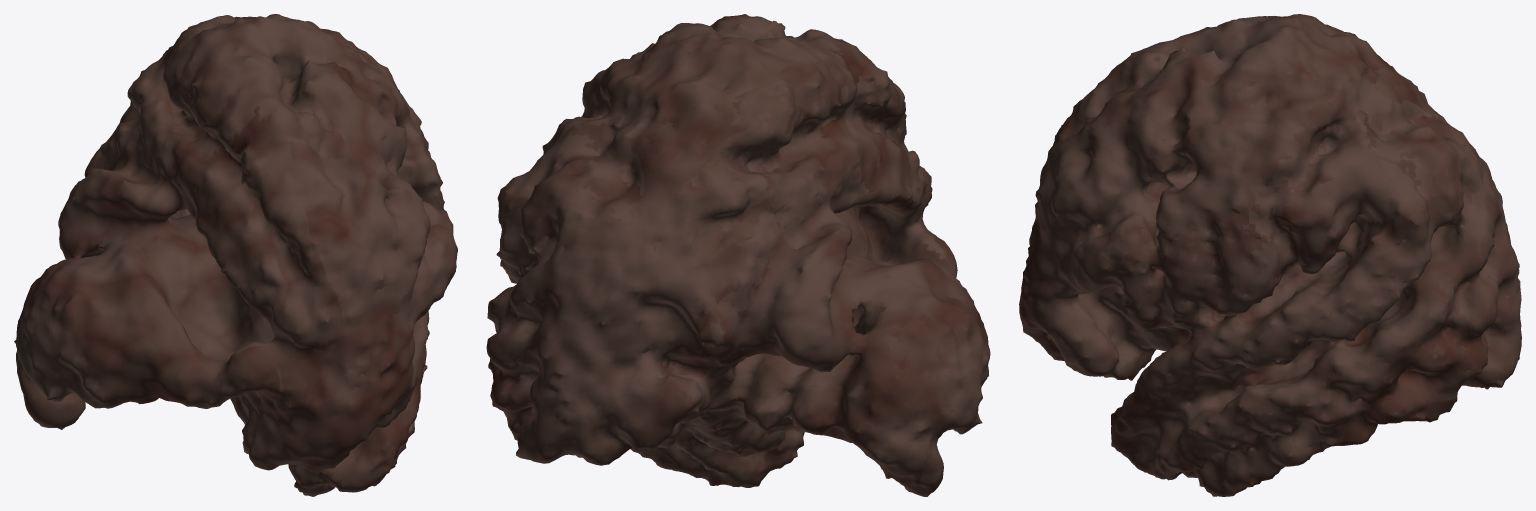
Rendered from BrainTumor_extracted_108.fbx.
The picture shows the model from 3 angles, left to right: view 1: azimuth 30°, elevation 25°; view 2: azimuth 150°, elevation 25°; view 3: azimuth 270°, elevation 25°; orthographic projection. The views are drawn at different scales.
Visible parts, largest first — view 1: Tumor; view 2: Tumor; view 3: Tumor.
Boxes of the visible parts, bbox=[...] form: Tumor: bbox=[14, 14, 457, 496]; Tumor: bbox=[486, 14, 990, 496]; Tumor: bbox=[1019, 14, 1521, 496].
Size of the model in its own units: 10591 by 11611 by 11868.
